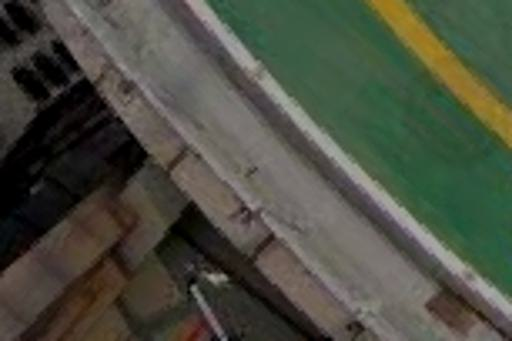Apron: (368, 1, 512, 146)
